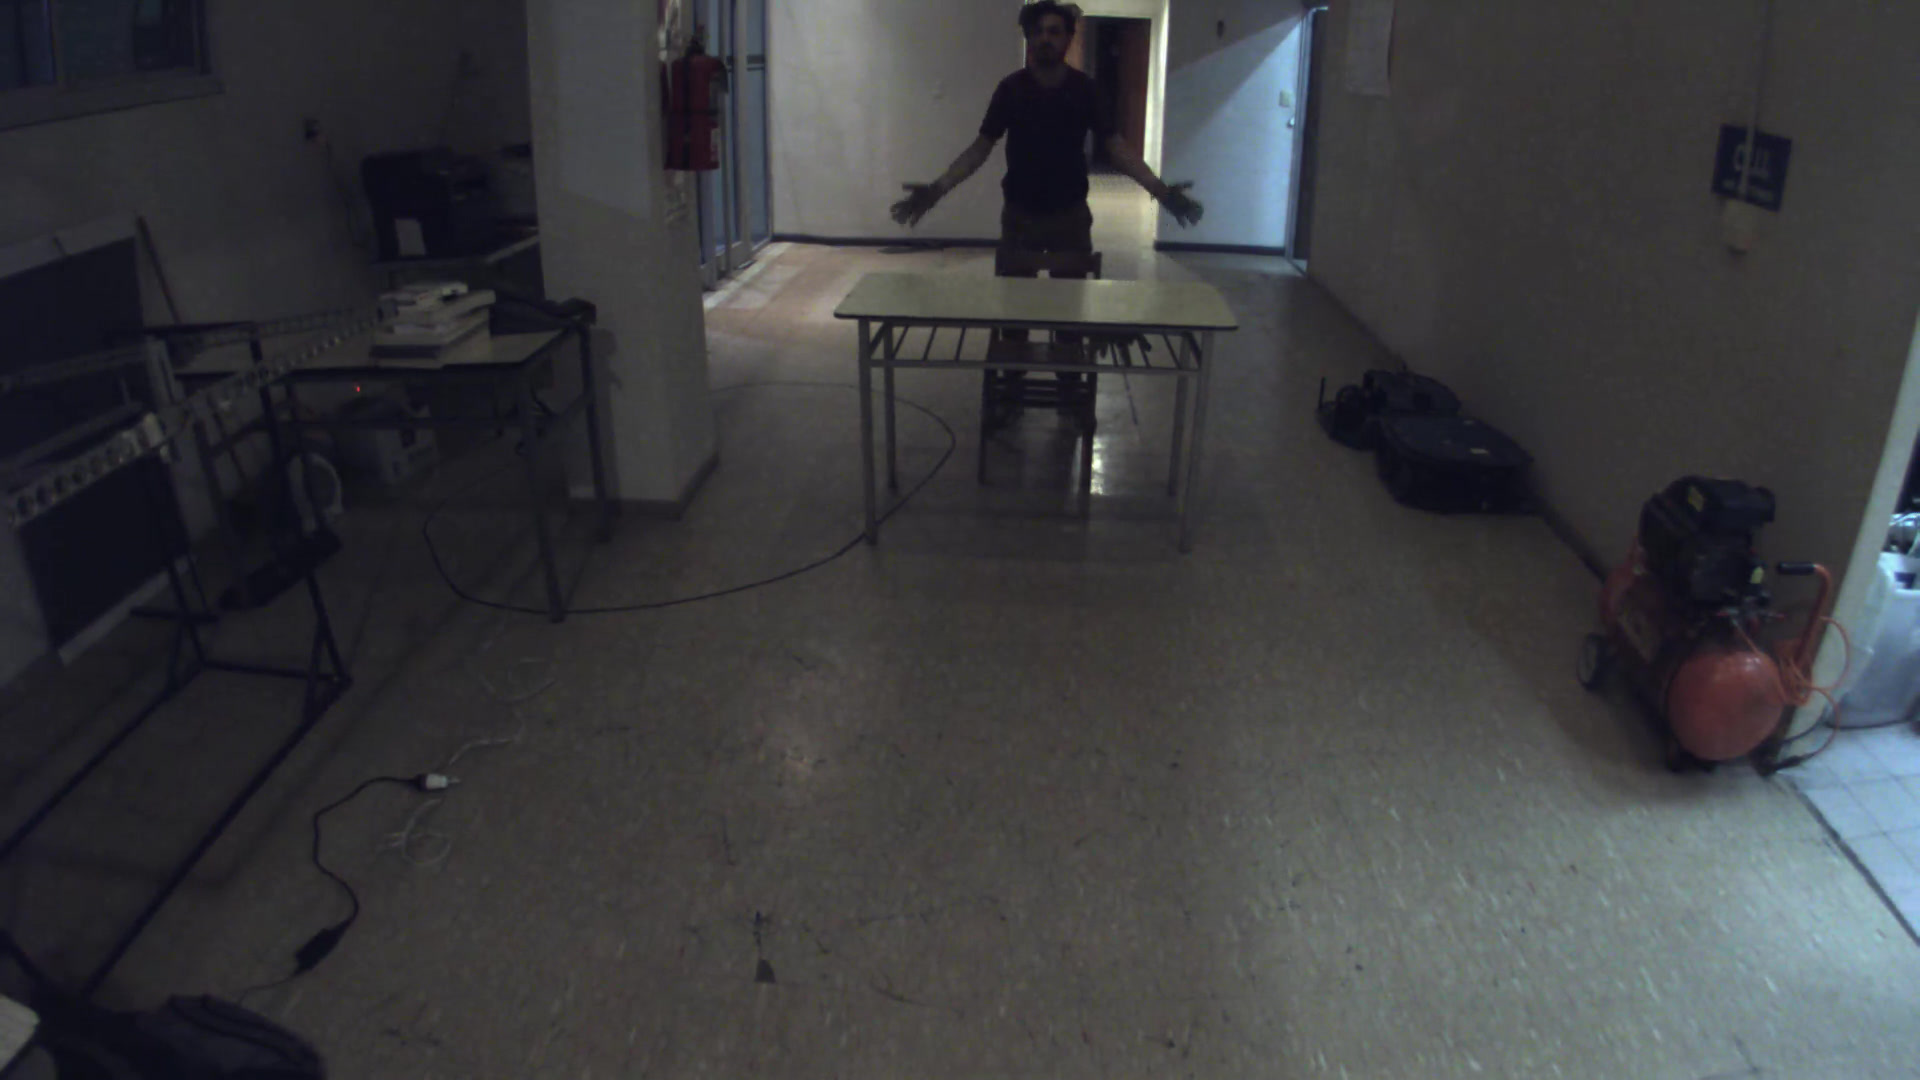hand: (1124, 161, 1216, 236), (884, 171, 956, 232)
